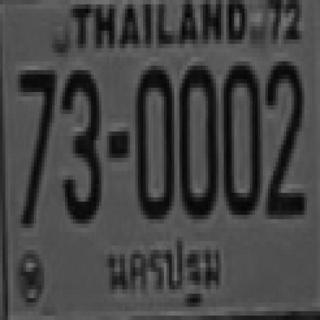N00: (177, 61, 216, 215), (133, 64, 172, 217), (222, 61, 259, 215)
N02: (264, 57, 303, 215)
N03: (60, 66, 99, 219)
N07: (16, 66, 54, 224)
P28: (99, 233, 228, 311)
